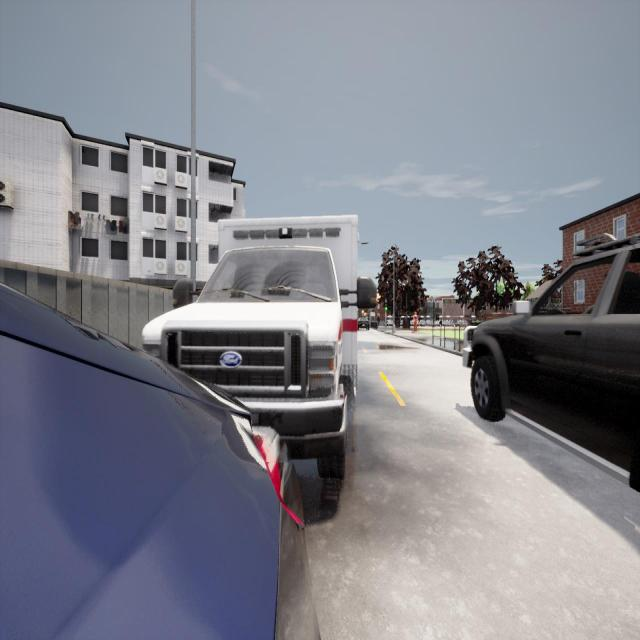Pedestrian: (413, 311, 418, 331)
Vehicle: (1, 278, 329, 640), (139, 214, 379, 481), (463, 233, 640, 486), (358, 316, 369, 331)
traffic_light: (385, 306, 387, 311)
